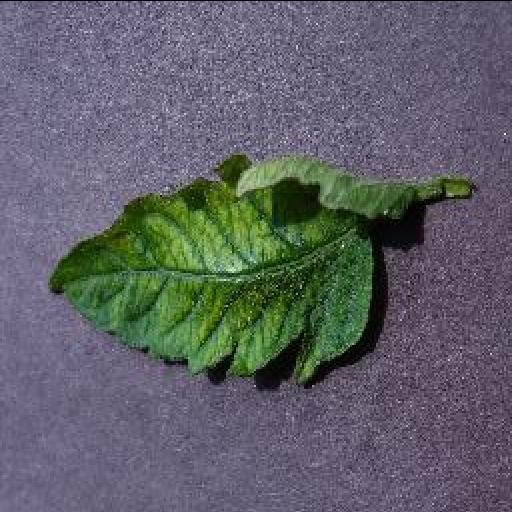disease_tomato: (46, 148, 378, 390)
